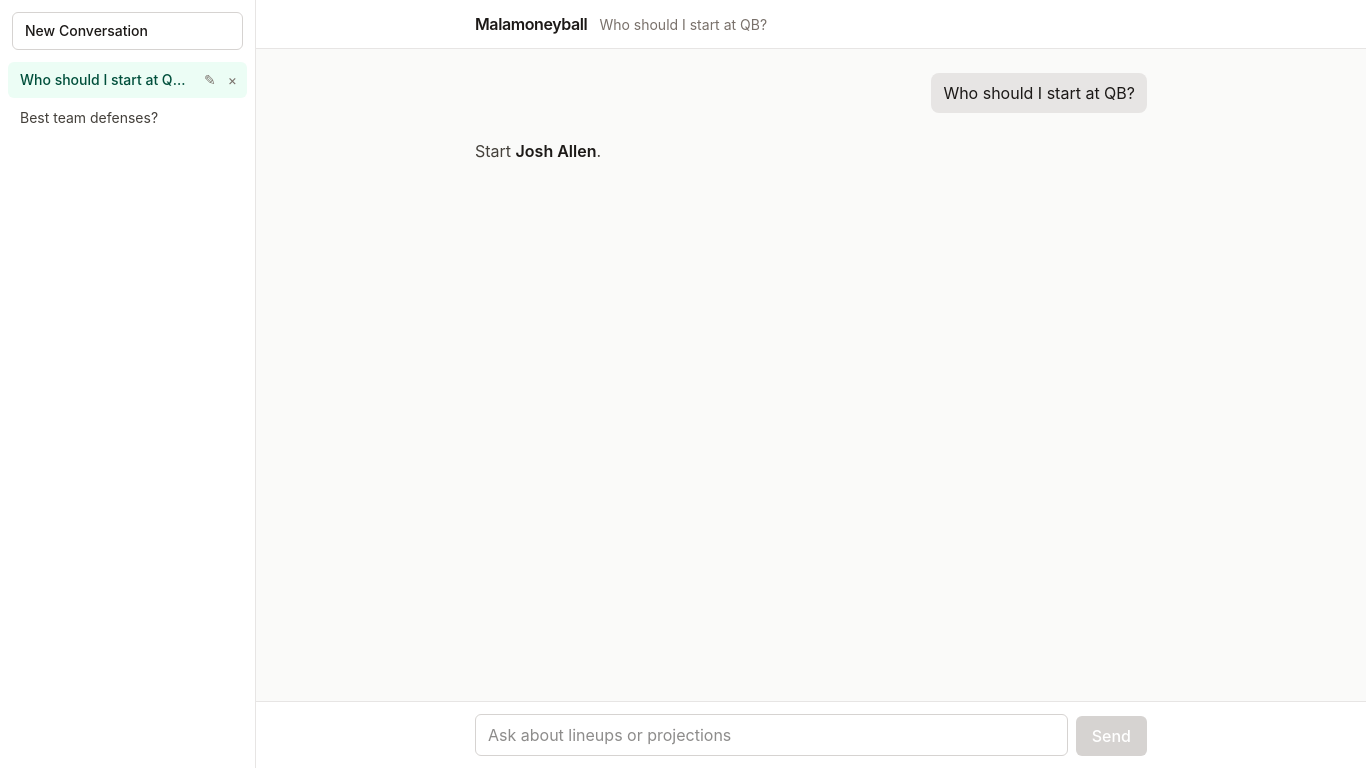
Test: starts an empty conversation that is titled by its first question
Check: the text "Josh Allen" is shown, box [516,141,596,161]
Click the button "New Conversation". click: (128, 31)
box: [12,12,243,50]
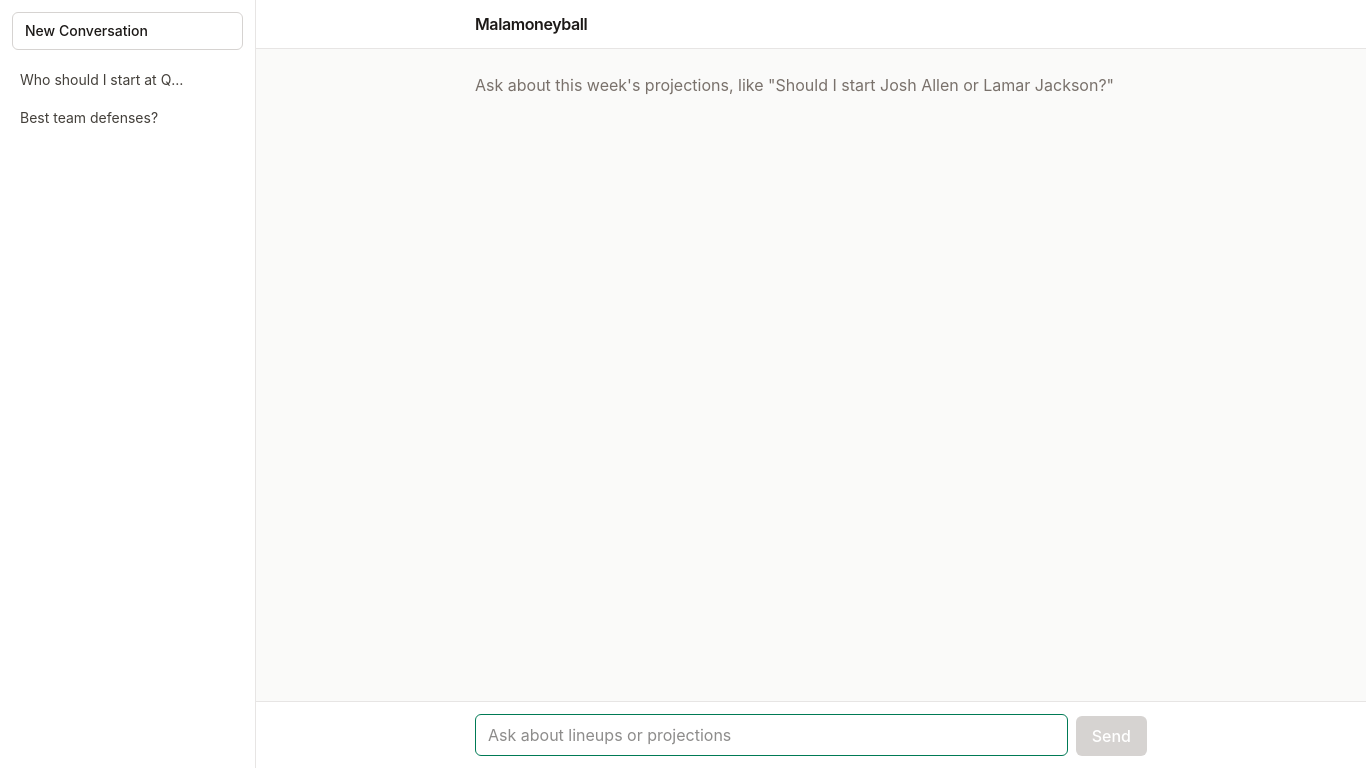
Check: the button "✎" is gone
Type "Top 5 running backs?" into the text box named "Question". click: (771, 735)
box: [475,714,1068,756]
Then press Enter
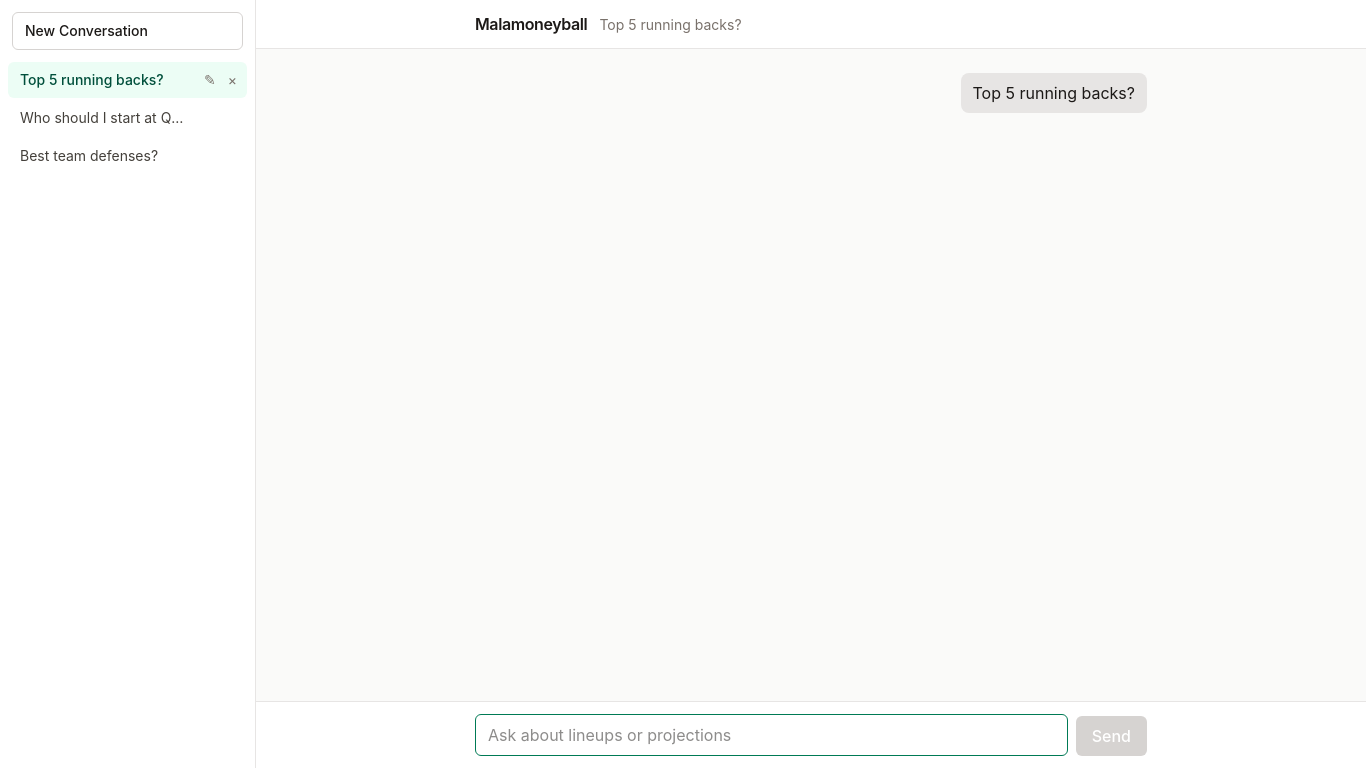
Check: the 2nd text "Top 5 running backs?" is shown, box [20,70,186,90]
